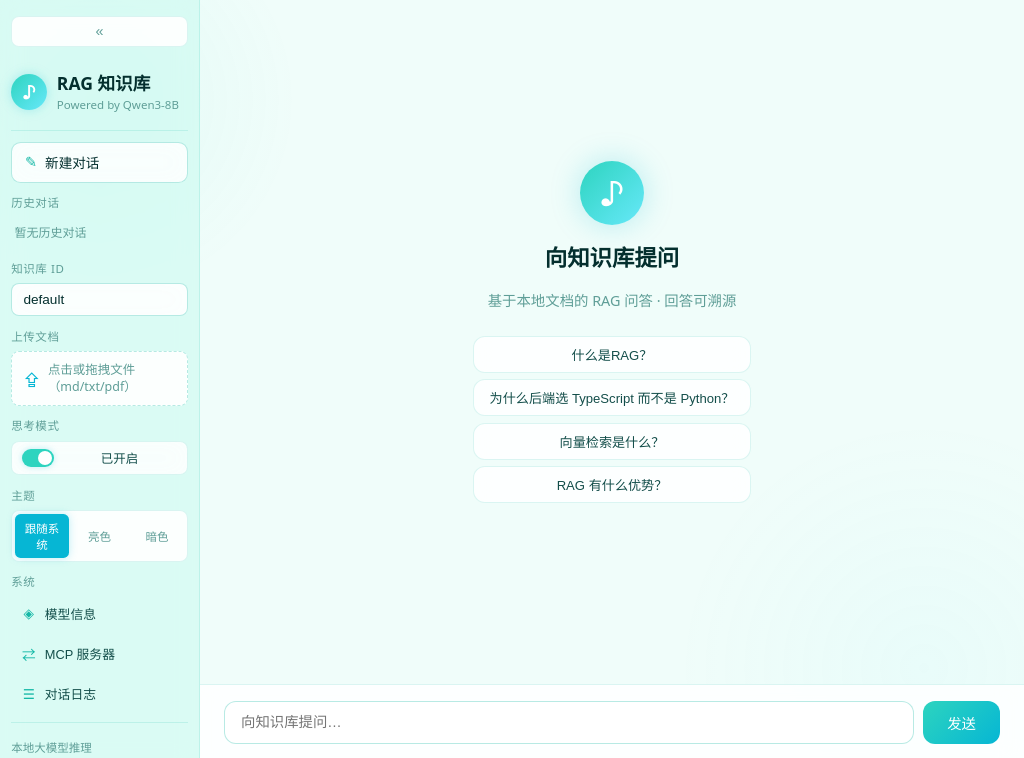
Scenario: 推理引擎切换 › 切换到 vLLM → PUT 请求体 {engine:vllm} → 展示重启提示
Click the button "◈ 模型信息".
click(100, 613)  # box [11,597,188,630]
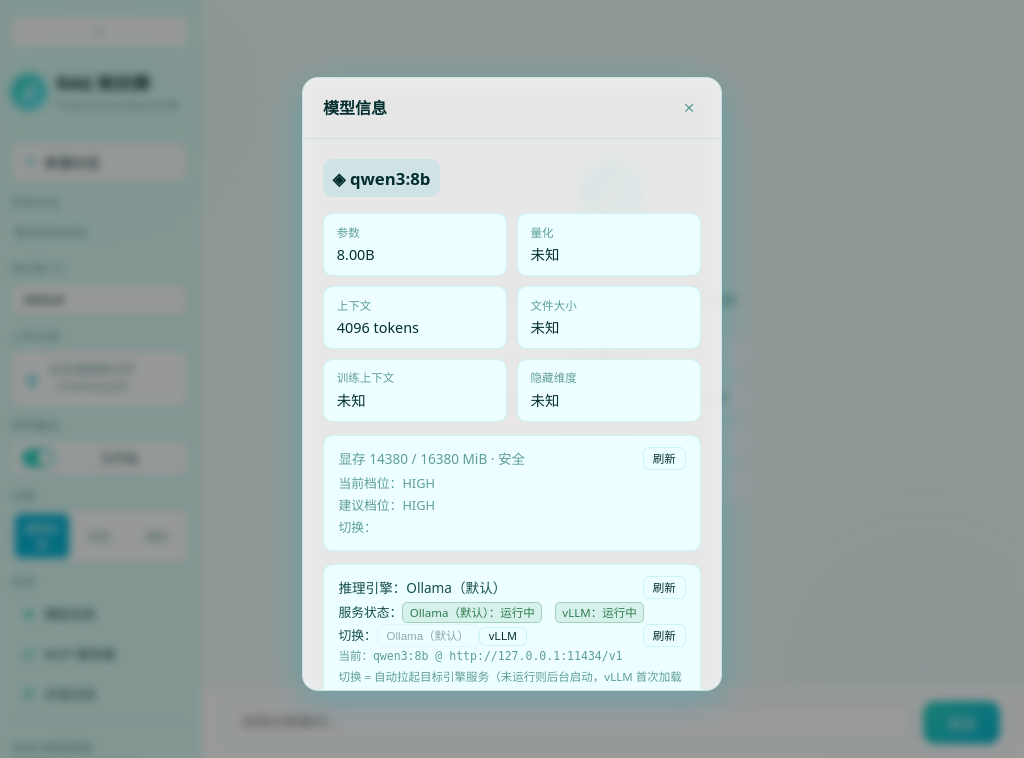
Expected: the text "推理引擎：Ollama（默认） 刷新" is shown, [338,576,686,599]
Click the button "vLLM".
click(503, 636)  # box [479,627,527,646]
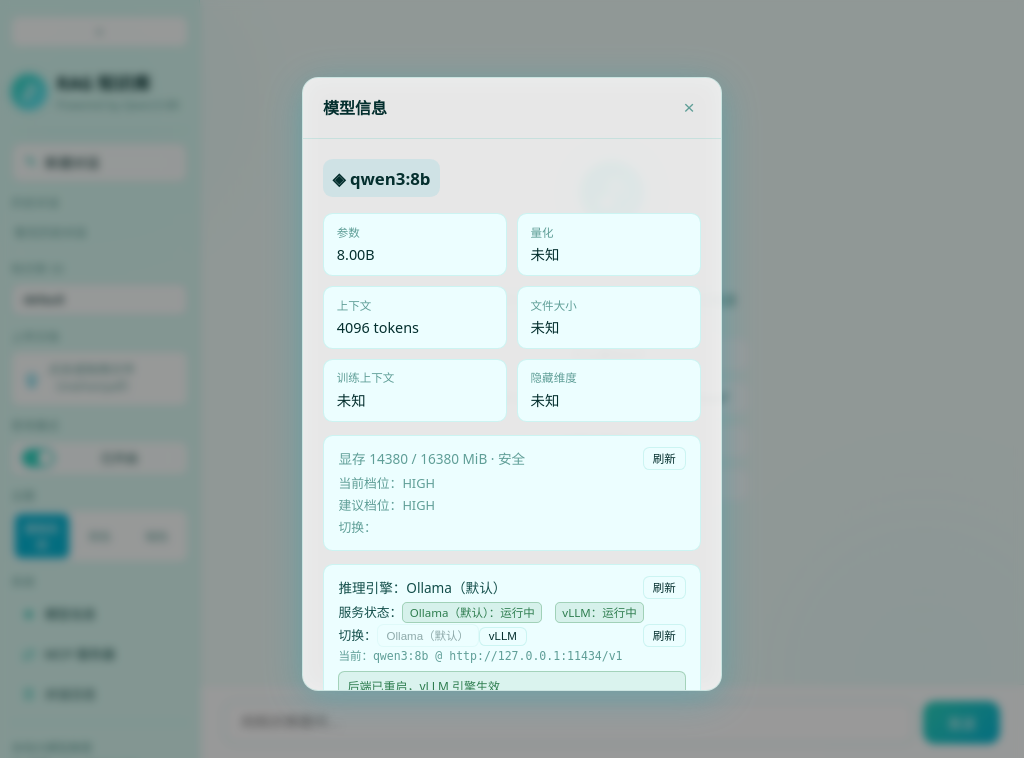
Expected: the text "后端已重启，vLLM 引擎生效" is shown, [338,671,686,691]
